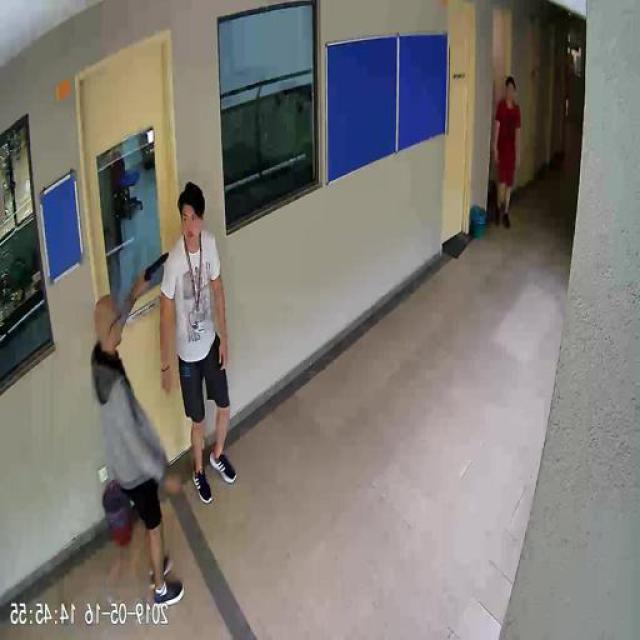Gun: (142, 250, 172, 288)
